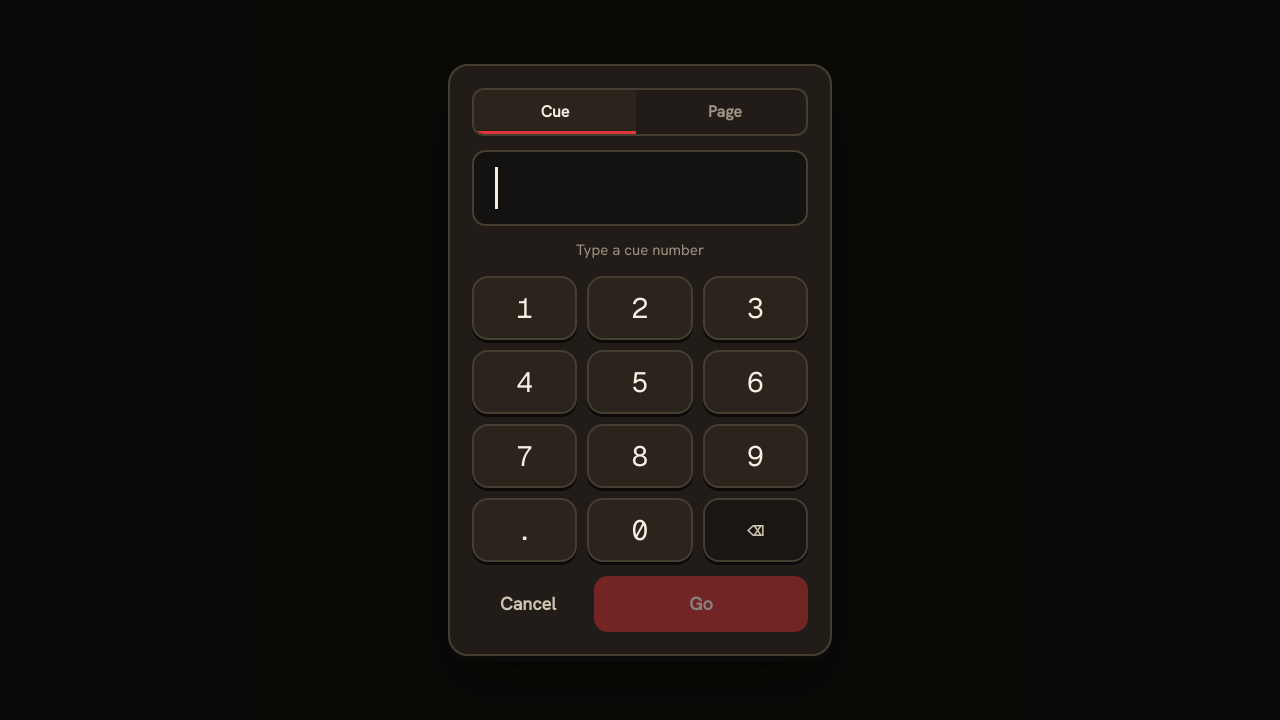
Test: GoToKeypad › builds 2.2 from key presses and shows the cue it lands on
The width and height of the screenshot is (1280, 720).
Click the button "2" at (640, 308), box [587,276,693,340]
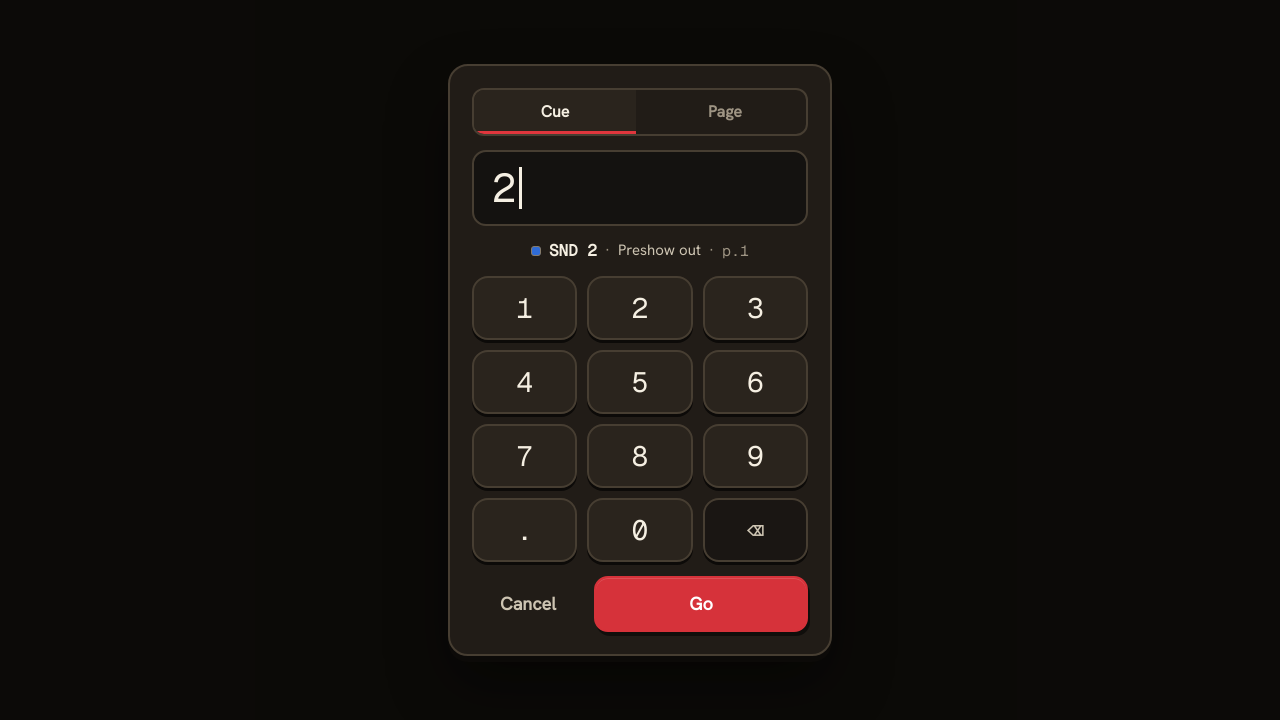
Click the button named "Point" at (525, 530), box [472,498,577,562]
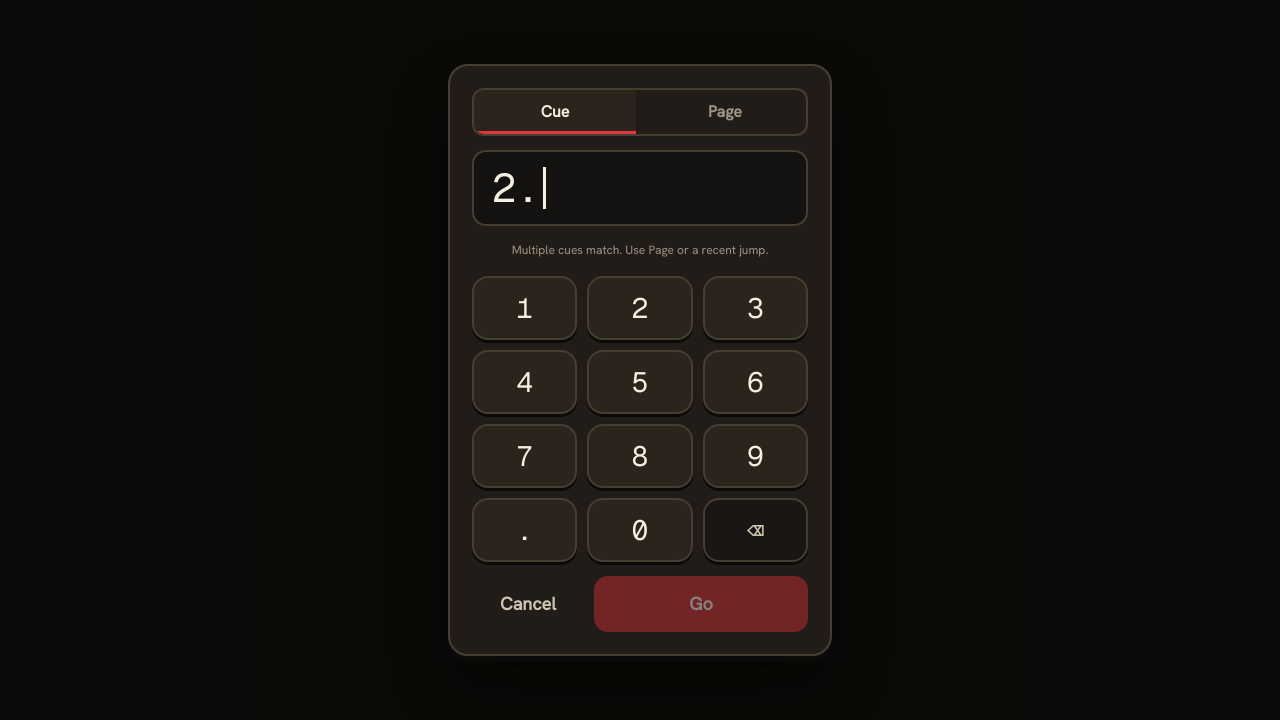
Click the button "2" at (640, 308), box [587,276,693,340]
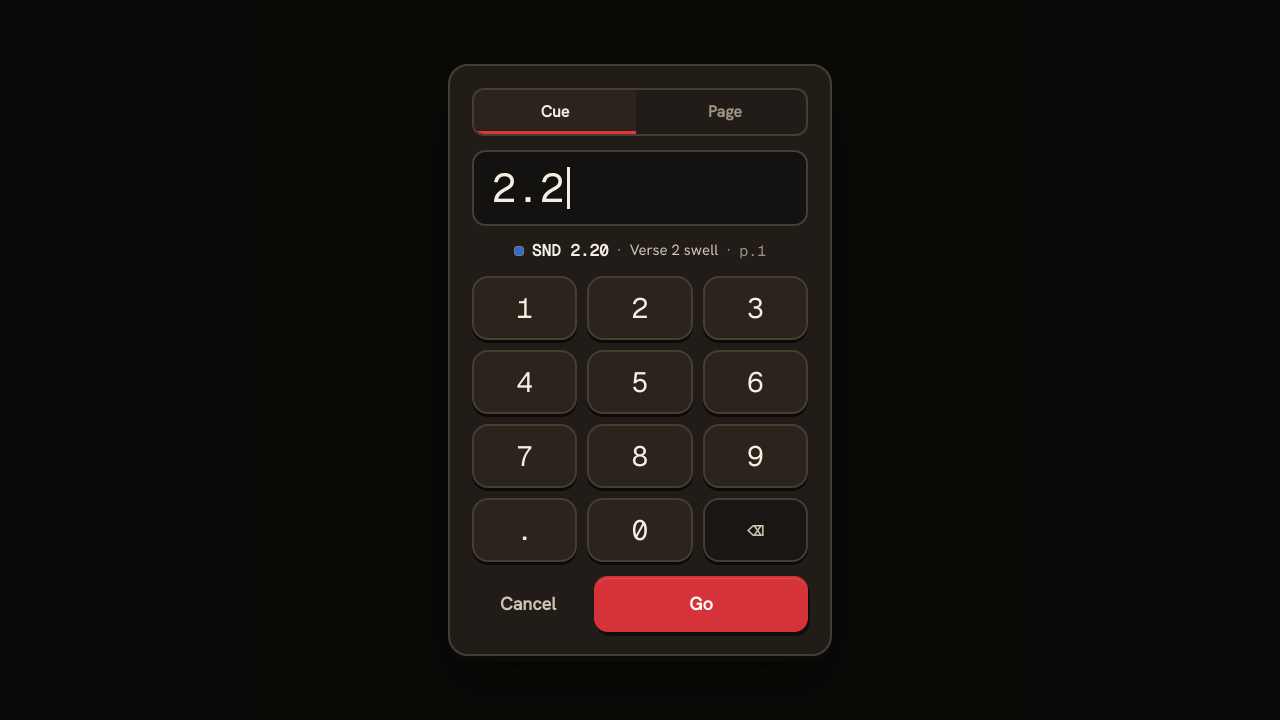
expect the dialog named "Go to" shows "SND 2.20": met, box [532,240,609,261]
expect the dialog named "Go to" shows "Verse 2 swell": met, box [630,240,718,260]
expect the dialog named "Go to" shows "p.1": met, box [448,64,832,656]
